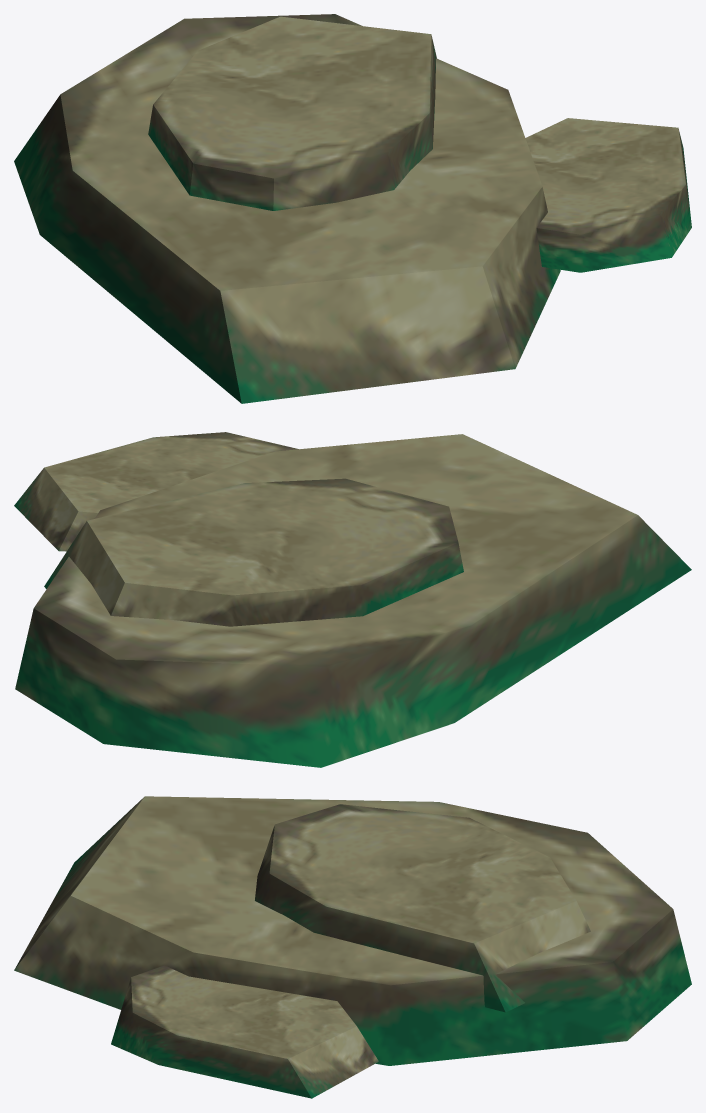
The model's file is Item_3002_shitou_sui01.FBX.
3 views of the same model, one above another, from view 1: azimuth 30°, elevation 25°; view 2: azimuth 150°, elevation 25°; view 3: azimuth 270°, elevation 25° (orthographic). The views are drawn at different scales.
Visible parts, largest first — view 1: Item_3002_shitou_sui01; view 2: Item_3002_shitou_sui01; view 3: Item_3002_shitou_sui01.
Part boxes in pixels (x1,y1,x2,y2): Item_3002_shitou_sui01: (14, 14, 691, 403); Item_3002_shitou_sui01: (14, 432, 691, 767); Item_3002_shitou_sui01: (14, 796, 691, 1098).
Bounding box in the file's own units: 348 × 64.47 × 390.
